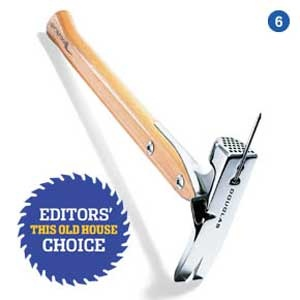hammer: (38, 8, 264, 283)
